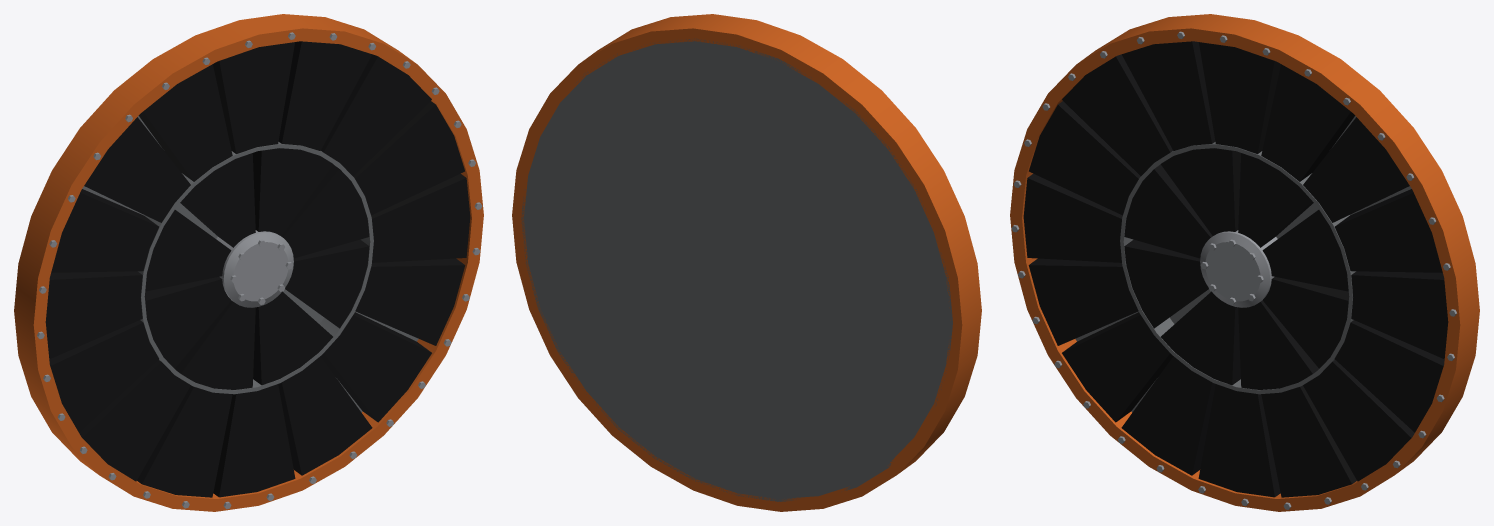
The model's file is engine_hot_emitter_annulus.obj.
3 renders of one model, left to right at view 1: azimuth 30°, elevation 25°; view 2: azimuth 150°, elevation 25°; view 3: azimuth 330°, elevation 25°, orthographic.
Visible parts, largest first — view 1: engine_hot_emitter_annulus; view 2: engine_hot_emitter_annulus; view 3: engine_hot_emitter_annulus.
Boxes of the visible parts, x1,y1,x2,y2 form: engine_hot_emitter_annulus: (14,14,483,511); engine_hot_emitter_annulus: (512,14,981,511); engine_hot_emitter_annulus: (1010,14,1479,511).
Size of the model in its own units: 4.88 by 4.88 by 0.44.
